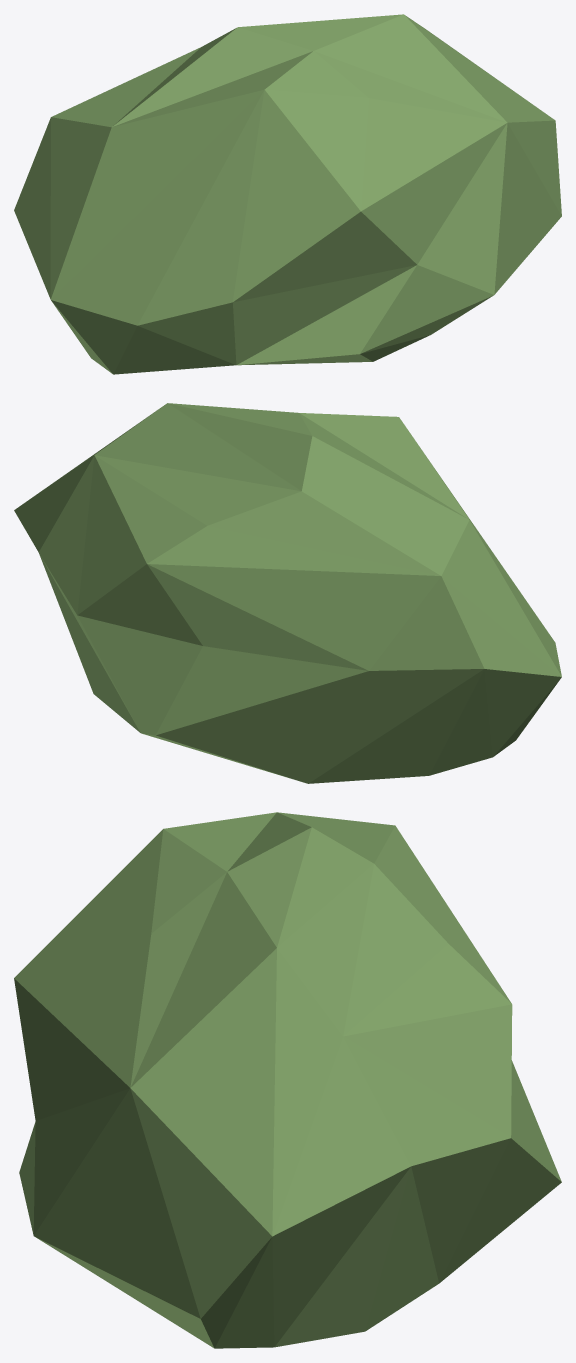
The model's file is Bush_02.fbx.
The picture shows the model from 3 angles, top to bottom: view 1: azimuth 30°, elevation 25°; view 2: azimuth 150°, elevation 25°; view 3: azimuth 270°, elevation 25°; orthographic projection. The views are drawn at different scales.
Visible parts, largest first — view 1: Bush_02; view 2: Bush_02; view 3: Bush_02.
Boxes of the visible parts, bbox=[...] form: Bush_02: bbox=[14, 14, 561, 374]; Bush_02: bbox=[14, 403, 561, 783]; Bush_02: bbox=[14, 812, 561, 1348].
Size of the model in its own units: 222 by 115 by 151.
